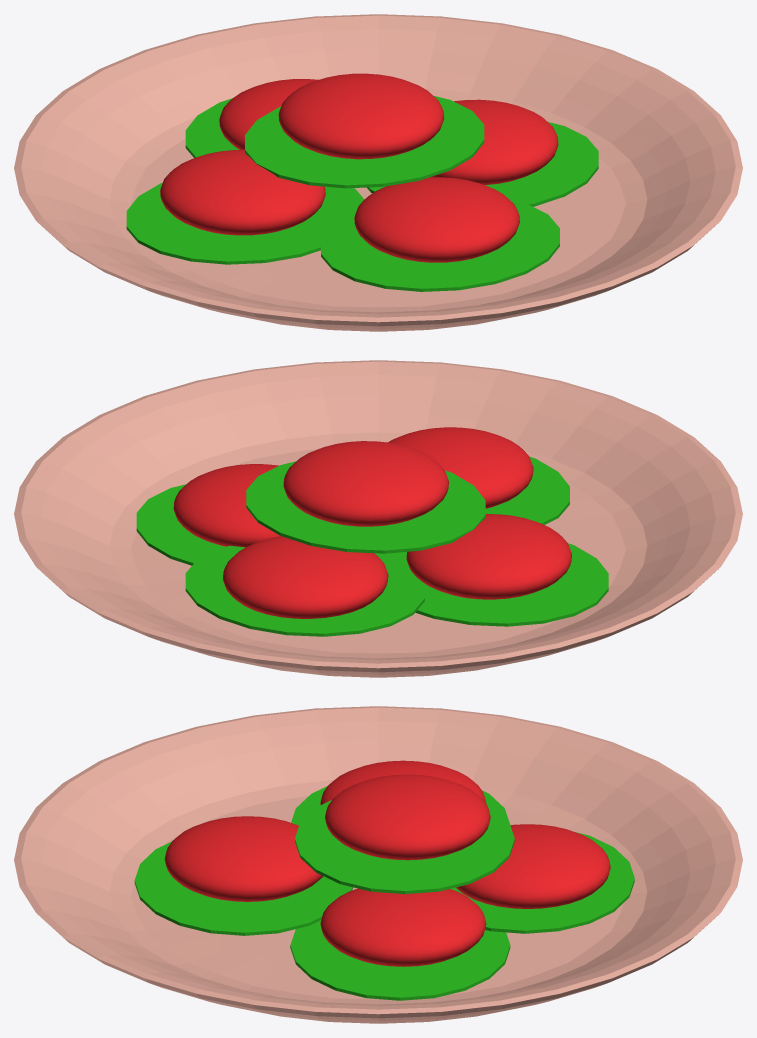
The model's file is KUE CIKAK.fbx.
3 renders of one model, top to bottom at view 1: azimuth 30°, elevation 25°; view 2: azimuth 150°, elevation 25°; view 3: azimuth 270°, elevation 25°, orthographic.
Visible parts, largest first — view 1: Cylinder, Sphere.004, Sphere.003, Sphere.002, Cylinder.004, Cylinder.005, Cylinder.003, Sphere.001, Cylinder.002, Sphere, Cylinder.001; view 2: Cylinder, Sphere.004, Sphere, Sphere.002, Cylinder.005, Cylinder.001, Cylinder.003, Sphere.003, Sphere.001, Cylinder.002, Cylinder.004; view 3: Cylinder, Sphere.004, Sphere.001, Sphere.003, Cylinder.005, Cylinder.002, Sphere, Cylinder.004, Cylinder.001, Sphere.002, Cylinder.003.
Boxes of the visible parts, x1=… form: Cylinder: x1=14, y1=14, x2=742, y2=331; Sphere.004: x1=278, y1=73, x2=444, y2=159; Sphere.003: x1=354, y1=177, x2=519, y2=262; Sphere.002: x1=160, y1=150, x2=325, y2=235; Cylinder.004: x1=321, y1=199, x2=559, y2=291; Cylinder.005: x1=245, y1=96, x2=484, y2=188; Cylinder.003: x1=126, y1=183, x2=364, y2=264; Sphere.001: x1=430, y1=99, x2=558, y2=184; Cylinder.002: x1=367, y1=122, x2=598, y2=206; Sphere: x1=219, y1=79, x2=318, y2=149; Cylinder.001: x1=185, y1=98, x2=239, y2=157; Cylinder: x1=14, y1=360, x2=742, y2=677; Sphere.004: x1=283, y1=441, x2=448, y2=526; Sphere: x1=223, y1=536, x2=388, y2=618; Sphere.002: x1=406, y1=514, x2=571, y2=599; Cylinder.005: x1=246, y1=461, x2=485, y2=553; Cylinder.001: x1=185, y1=545, x2=424, y2=636; Cylinder.003: x1=386, y1=543, x2=608, y2=626; Sphere.003: x1=388, y1=427, x2=533, y2=508; Sphere.001: x1=173, y1=464, x2=280, y2=547; Cylinder.002: x1=136, y1=484, x2=225, y2=565; Cylinder.004: x1=485, y1=457, x2=569, y2=524; Cylinder: x1=14, y1=706, x2=742, y2=1023; Sphere.004: x1=325, y1=774, x2=490, y2=860; Sphere.001: x1=320, y1=888, x2=486, y2=966; Sphere.003: x1=164, y1=816, x2=323, y2=901; Cylinder.005: x1=295, y1=800, x2=514, y2=894; Cylinder.002: x1=290, y1=920, x2=510, y2=1000; Sphere: x1=455, y1=824, x2=610, y2=908; Cylinder.004: x1=134, y1=841, x2=352, y2=935; Cylinder.001: x1=450, y1=832, x2=634, y2=933; Sphere.002: x1=320, y1=760, x2=486, y2=804; Cylinder.003: x1=291, y1=786, x2=509, y2=825.
Bounding box in the file's own units: 231 × 42.3 × 231.
